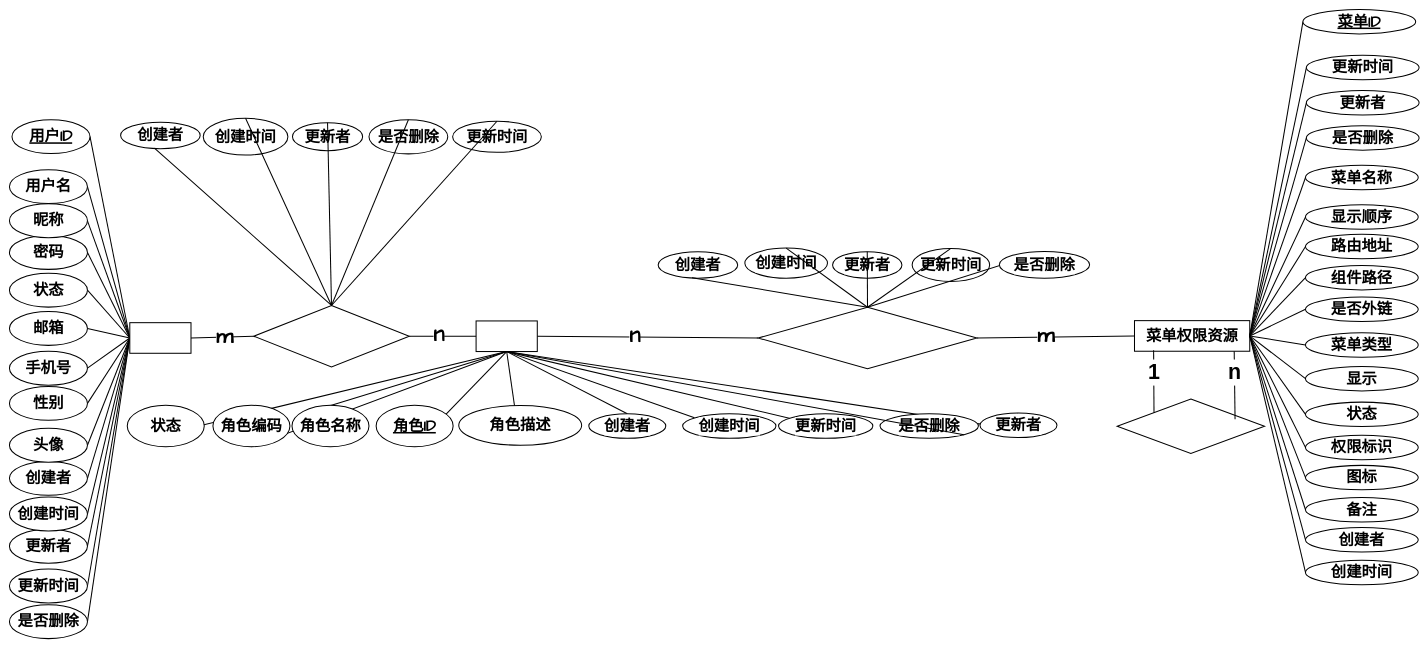
Some shapes in this 1428 by 648 pixel diagram are drawn without their labels. The shapes that lost their labels are listed below. From the top down, each one's centre as x and y in pixels, then its label:
pixel 160 338: 用户
pixel 331 336: 用户角色分配
pixel 506 336: 角色
pixel 867 338: 角色菜单权限授权
pixel 1190 426: 父子隶属
